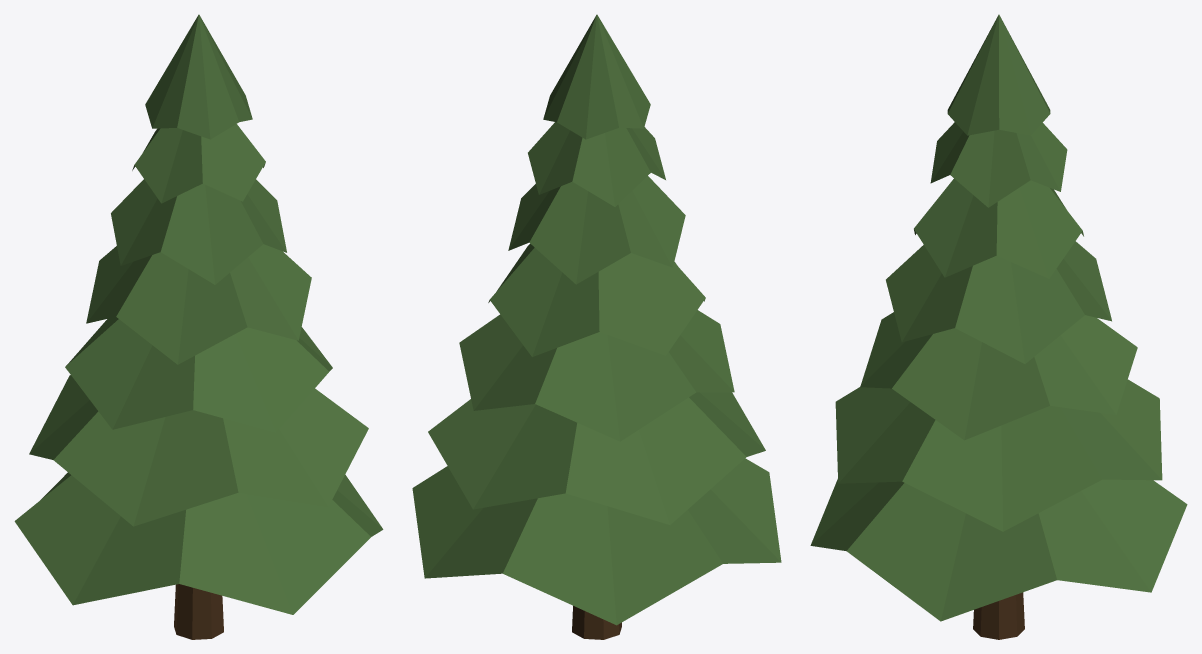
Rendered from pinetreetest3.gltf.
3 renders of one model, left to right at view 1: azimuth 30°, elevation 25°; view 2: azimuth 150°, elevation 25°; view 3: azimuth 270°, elevation 25°, orthographic.
Parts seen in each view (by area): view 1: FirTree3.002; view 2: FirTree3.002; view 3: FirTree3.002.
Part boxes in pixels (bbox=[...]): FirTree3.002: bbox=[14, 14, 383, 639]; FirTree3.002: bbox=[412, 14, 781, 639]; FirTree3.002: bbox=[810, 14, 1187, 639].
Bounding box in the file's own units: 4.71 × 8.92 × 4.96.
1 material, 1 textured.
